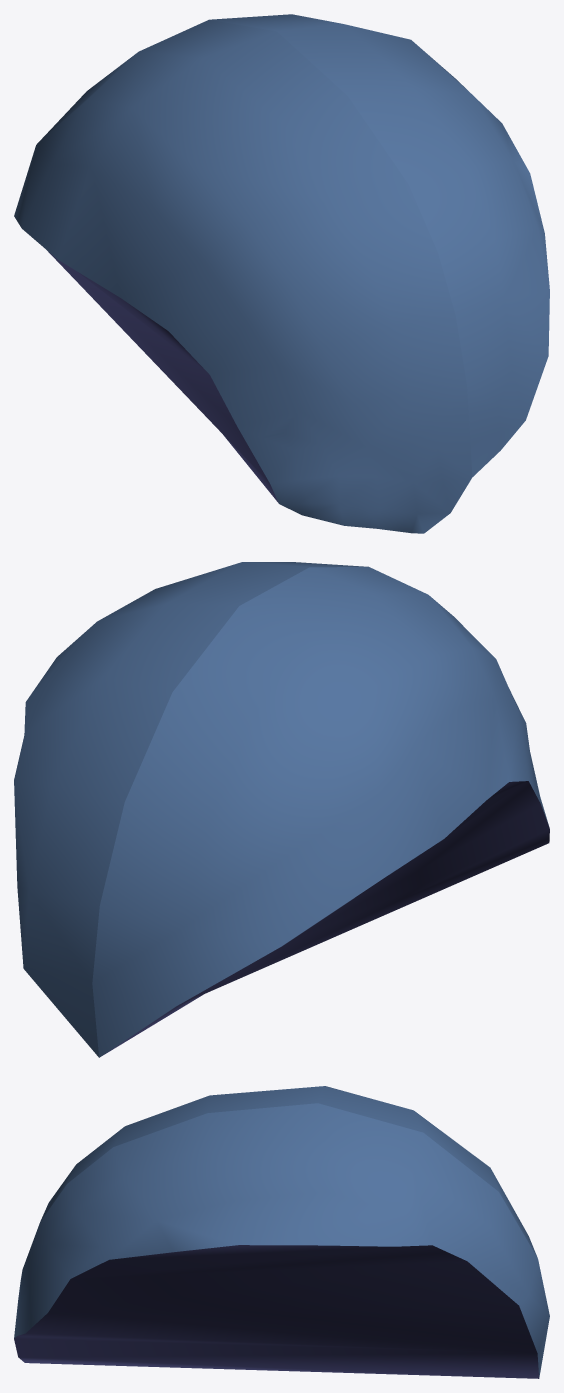
File: Z_Head.001.fbx
3 views of the same model, one above another, from view 1: azimuth 30°, elevation 25°; view 2: azimuth 150°, elevation 25°; view 3: azimuth 270°, elevation 25° (orthographic). The views are drawn at different scales.
Visible parts, largest first — view 1: Z_Head.001; view 2: Z_Head.001; view 3: Z_Head.001.
Part boxes in pixels (bbox=[...]): Z_Head.001: bbox=[14, 14, 549, 533]; Z_Head.001: bbox=[14, 562, 549, 1057]; Z_Head.001: bbox=[14, 1086, 549, 1378].
Size of the model in its own units: 1358 by 1162 by 2048.
